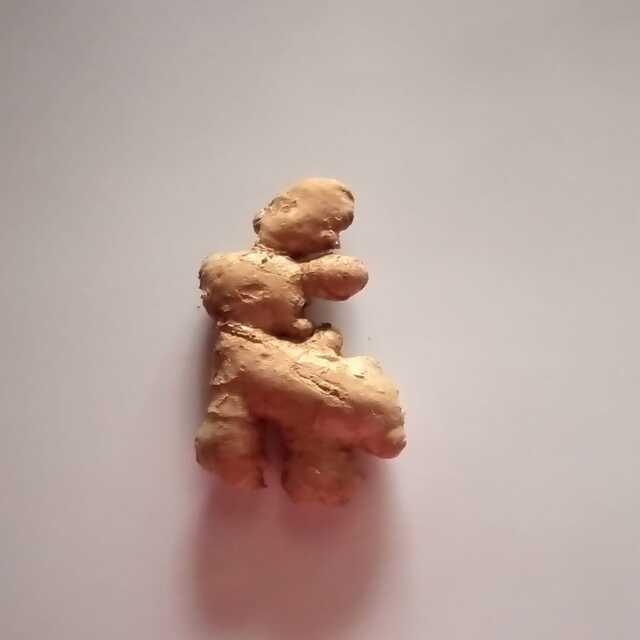ginger: (220, 204, 420, 488)
